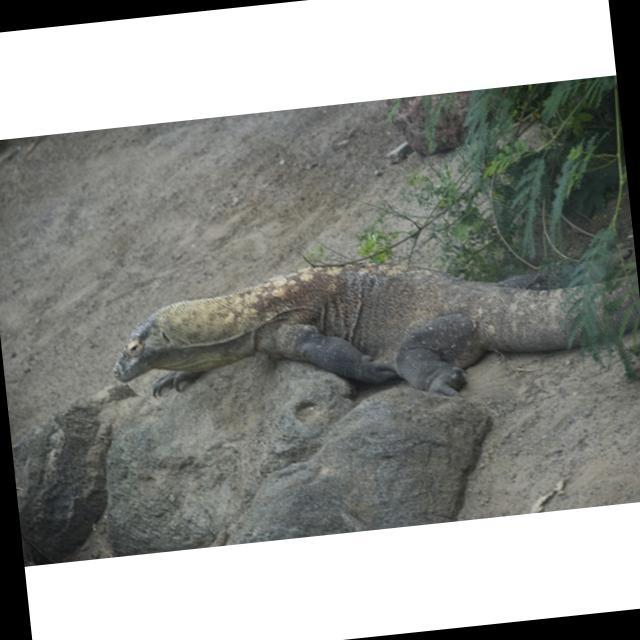KomodoDragon: (105, 229, 640, 427)
